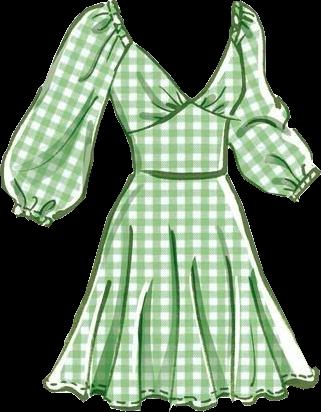Bodice: (108, 35, 247, 177)
Hemline: (40, 376, 319, 411)
Neckline: (114, 0, 242, 104)
Skirt: (42, 172, 319, 410)
Sleeve: (0, 0, 131, 227), (229, 1, 320, 202)
Sleeveline: (106, 1, 134, 101), (234, 1, 249, 75)
Waistline: (133, 167, 226, 178)
